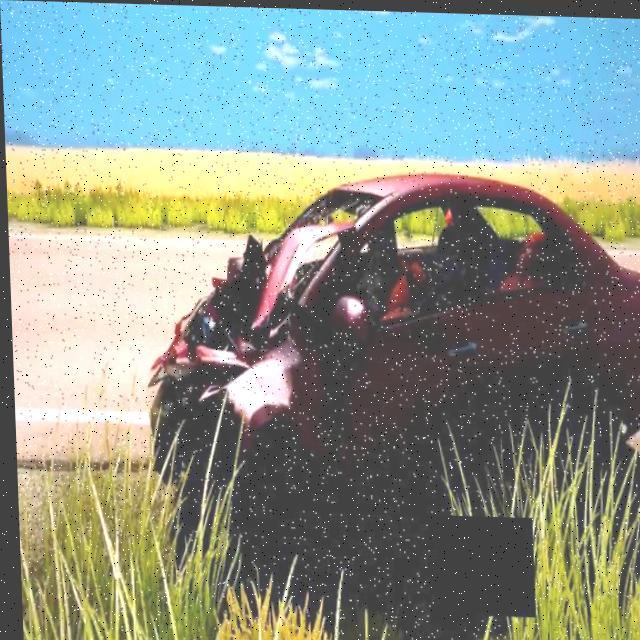single accident: (34, 148, 639, 640)
